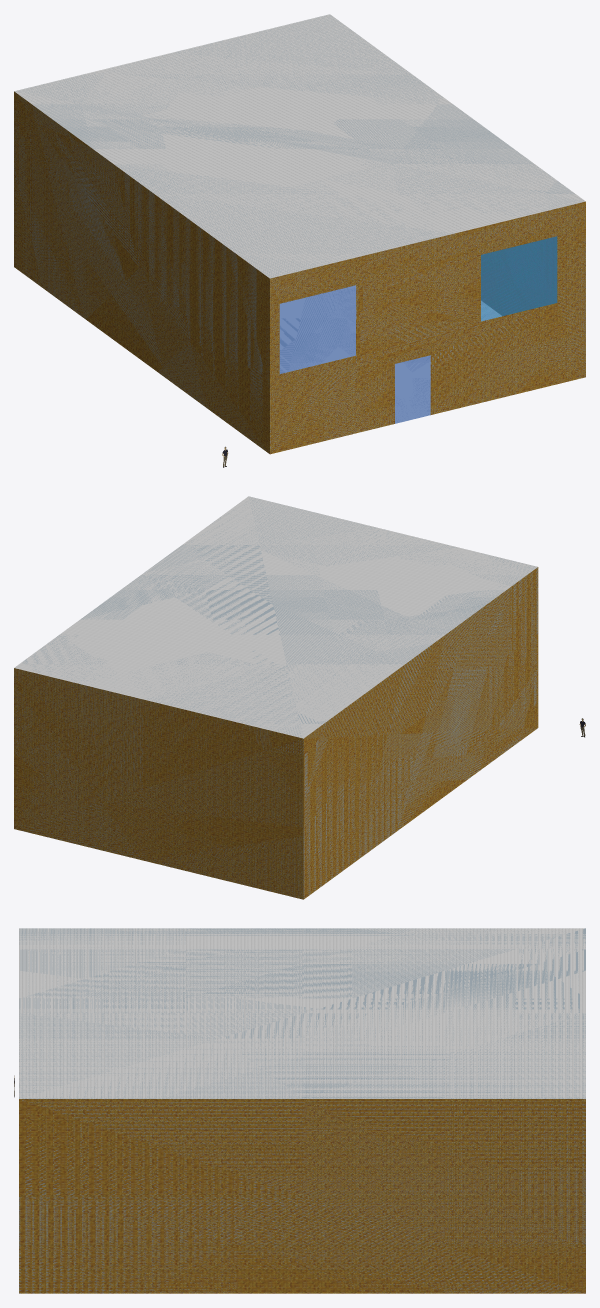
File: Example House.dae
The picture shows the model from 3 angles, top to bottom: view 1: azimuth 30°, elevation 25°; view 2: azimuth 150°, elevation 25°; view 3: azimuth 270°, elevation 25°; orthographic projection. The views are drawn at different scales.
Parts seen in each view (by area): view 1: SketchUp (×6); view 2: SketchUp (×2); view 3: SketchUp (×2).
Part boxes in pixels (box(x1,y1,x2,y2)): SketchUp (×6): box(14, 14, 585, 454); SketchUp (×2): box(14, 496, 538, 899); SketchUp (×2): box(19, 928, 585, 1293).
Bounding box in the file's own units: 1302 × 1591 × 598.
Materials: 12 (3 with a texture image).
